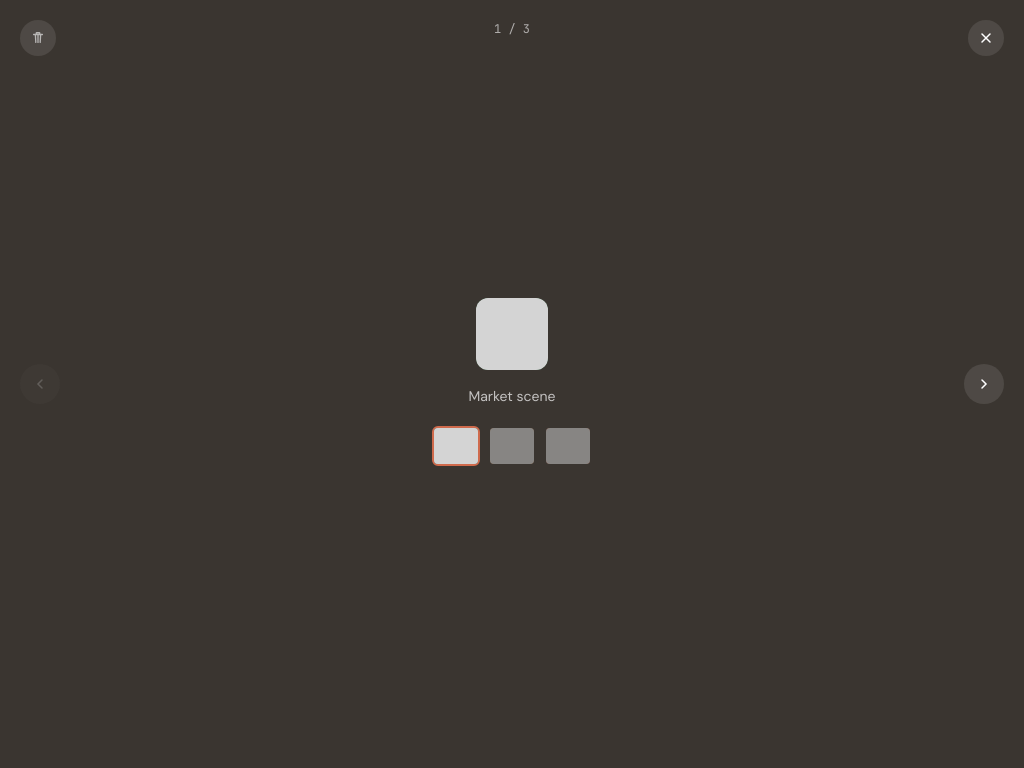
PhotoLightbox › hides delete confirmation when Cancel is clicked
The width and height of the screenshot is (1024, 768).
Click the button named "Delete photo". click: [38, 38]
box: x1=20 y1=20 x2=56 y2=56
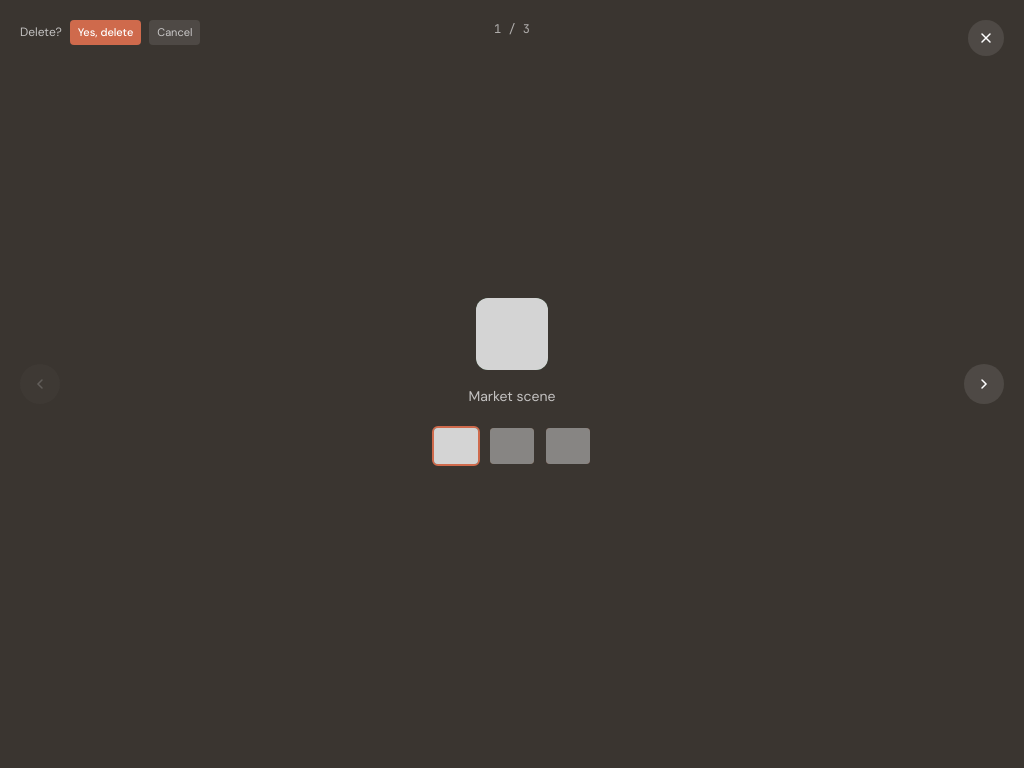
Click the button "Cancel". click: [175, 32]
box: x1=149 y1=20 x2=200 y2=44
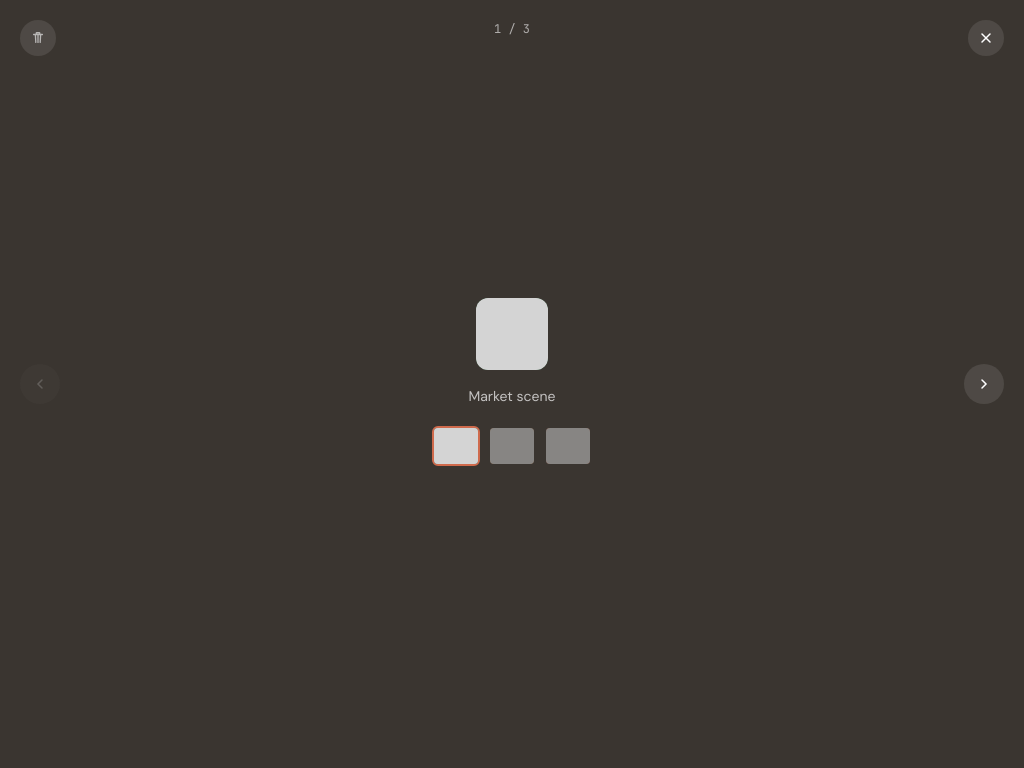
Expected: the text "Delete?" is gone
